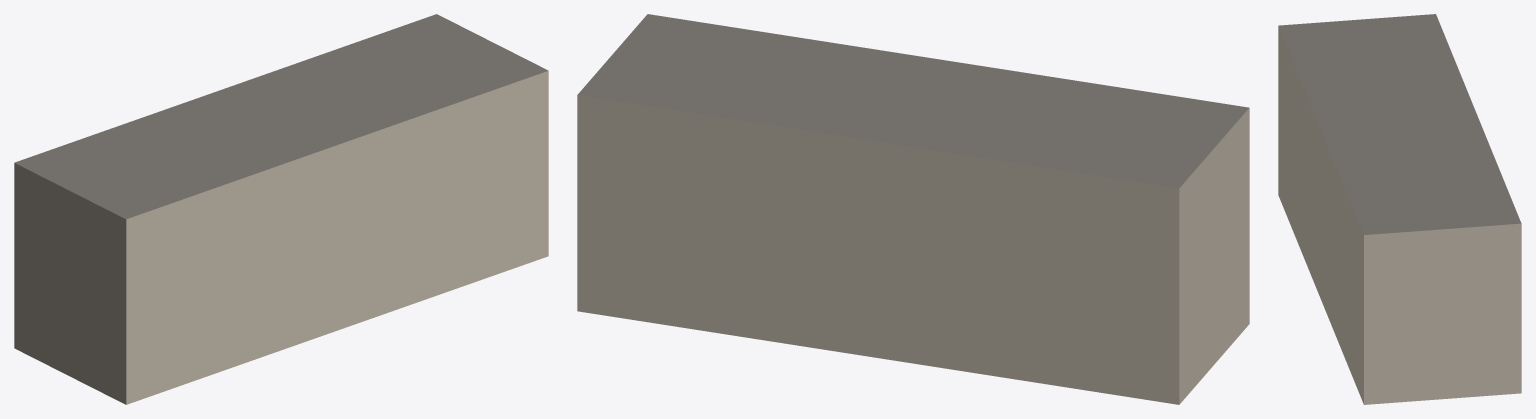
The picture shows the model from 3 angles, left to right: view 1: azimuth 30°, elevation 25°; view 2: azimuth 150°, elevation 25°; view 3: azimuth 270°, elevation 25°; orthographic projection. The views are drawn at different scales.
Parts seen in each view (by area): view 1: HP-w1435252832; view 2: HP-w1435252832; view 3: HP-w1435252832.
Boxes of the visible parts, <box> form: HP-w1435252832: <box>14,14,548,404</box>; HP-w1435252832: <box>577,14,1249,404</box>; HP-w1435252832: <box>1278,14,1521,404</box>.
Size of the model in its own units: 50.26 by 18 by 23.35.
